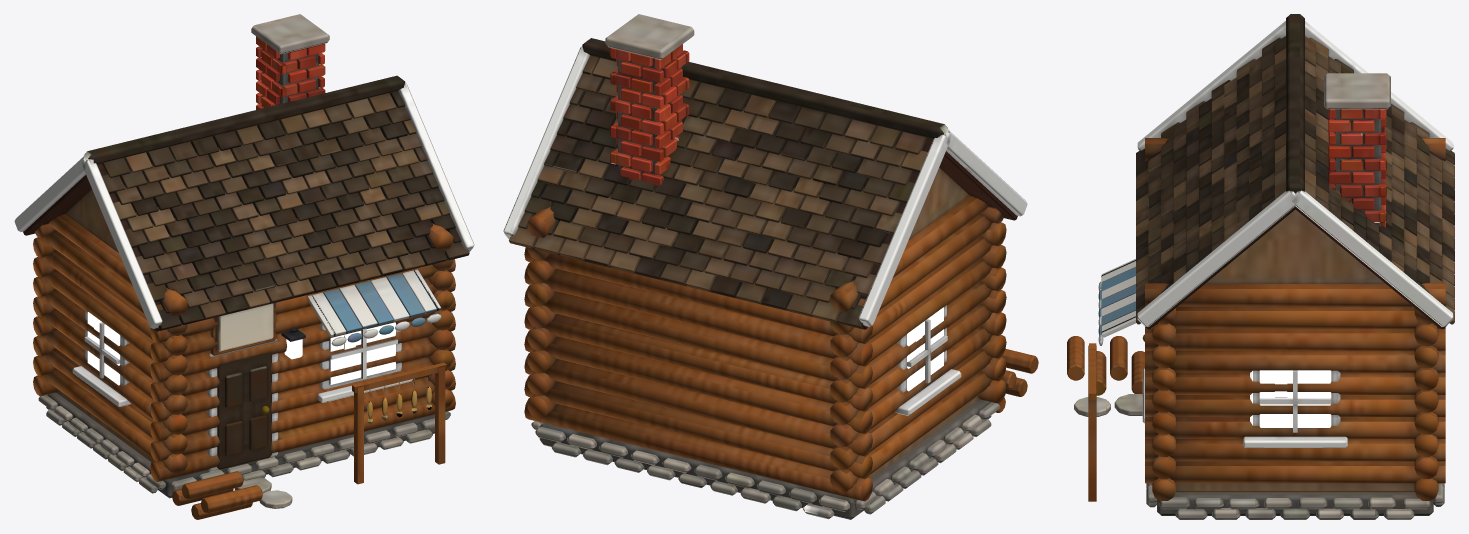
The model's file is smokehouse.glb.
3 renders of one model, left to right at view 1: azimuth 30°, elevation 25°; view 2: azimuth 150°, elevation 25°; view 3: azimuth 270°, elevation 25°, orthographic. The views are drawn at different scales.
Parts seen in each view (by area): view 1: smokehouse; view 2: smokehouse; view 3: smokehouse.
Boxes of the visible parts, left/top/right/bottom form: smokehouse: left=14, top=14, right=474, bottom=519; smokehouse: left=503, top=14, right=1038, bottom=519; smokehouse: left=1067, top=14, right=1454, bottom=519.
Size of the model in its own units: 1.74 by 1.84 by 1.63.
Materials: 1 (1 with a texture image).
